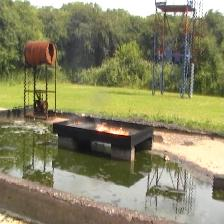fire: (95, 122, 129, 136)
